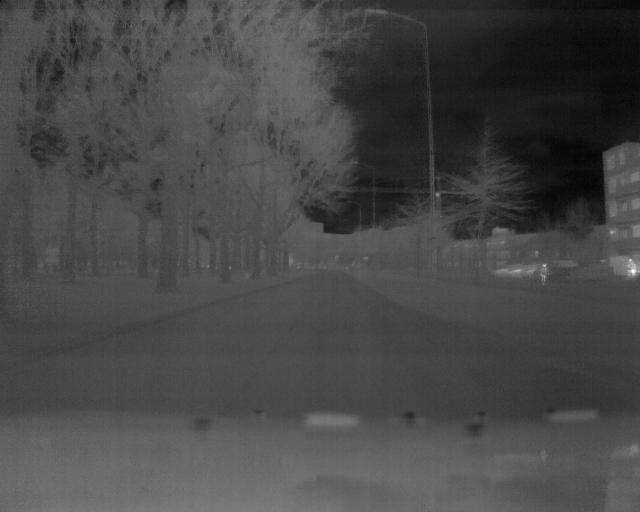person: (626, 257, 637, 283), (538, 262, 548, 288)
